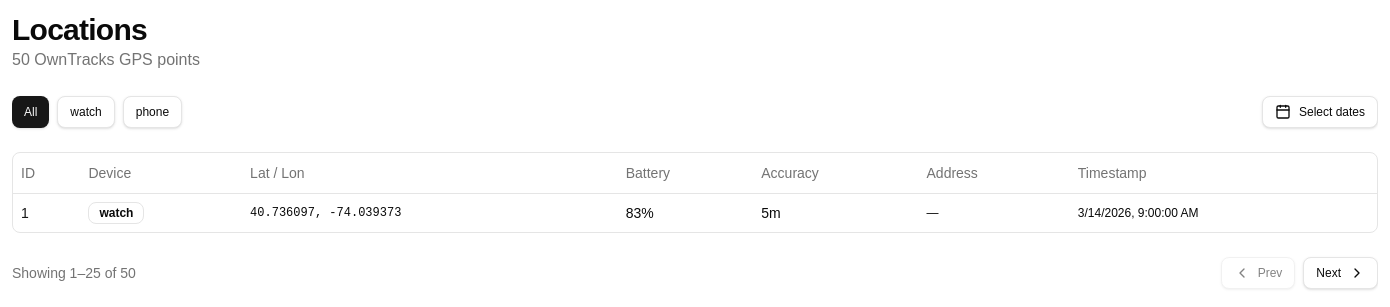
Test: LocationsPage › updates pagination offsets as the user moves between pages
Check: the text "Showing 1–25 of 50" is shown, box [12,262,136,282]
Step 1. Click the button "Next" → (1341, 272), box [1303,256,1378,288]
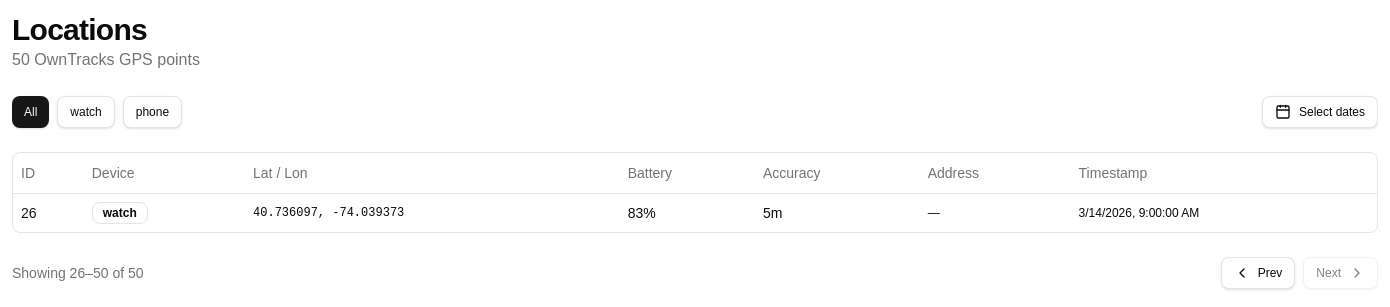
Check: the text "Showing 26–50 of 50" is shown, box [12,262,144,282]
Step 2. Click the button "Prev" → (1258, 272), box [1221,256,1295,288]
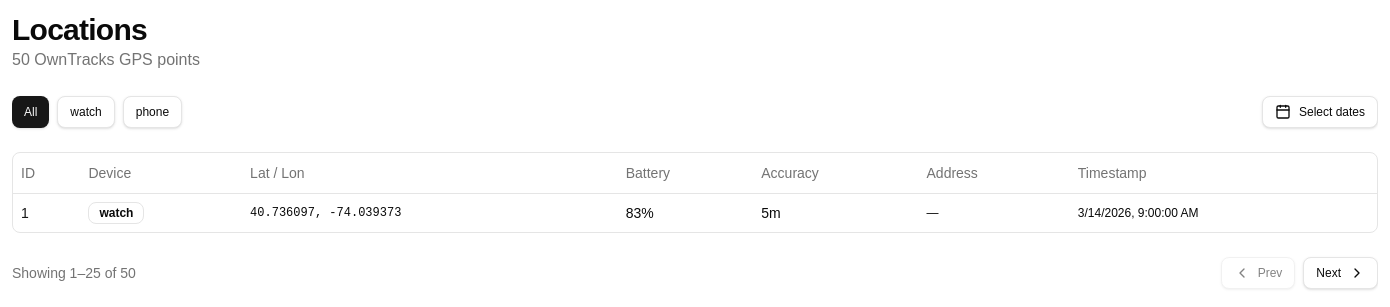
Check: the text "Showing 1–25 of 50" is shown, box [12,262,136,282]
